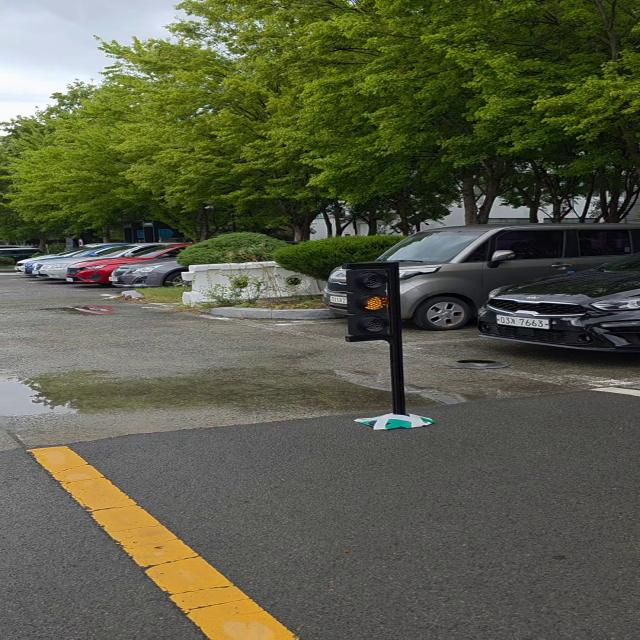yellow: (347, 262, 397, 340)
